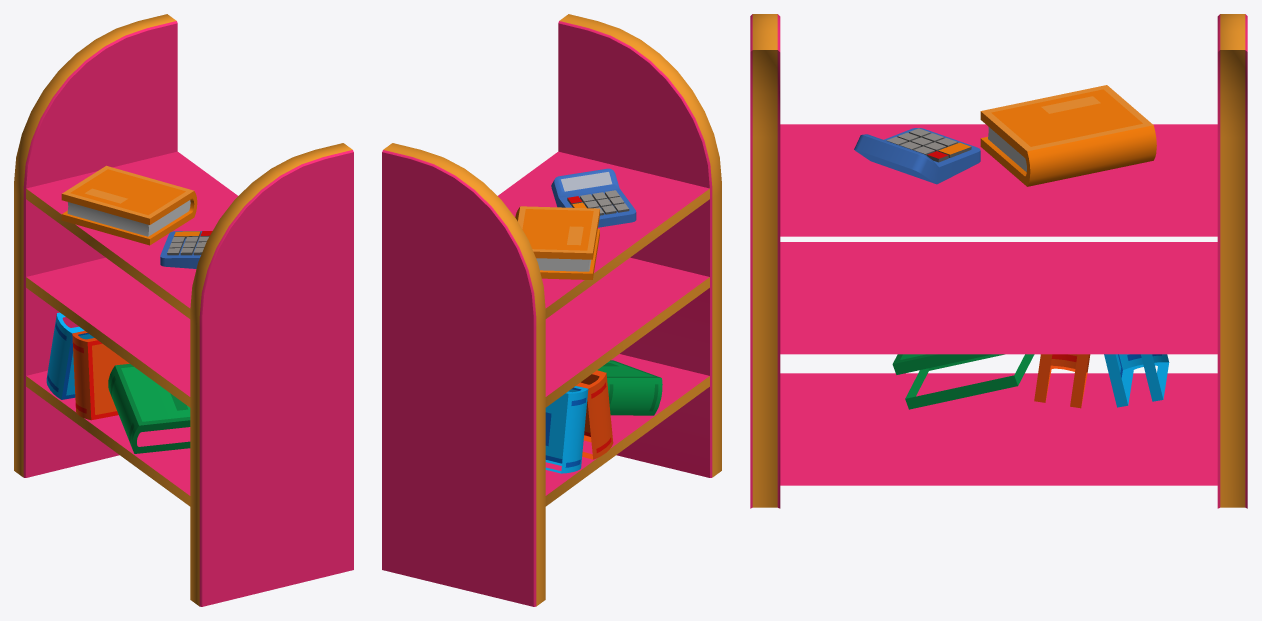
The model's file is Book Shelf LEVEL-3.fbx.
3 renders of one model, left to right at view 1: azimuth 30°, elevation 25°; view 2: azimuth 150°, elevation 25°; view 3: azimuth 270°, elevation 25°, orthographic. The views are drawn at different scales.
Visible parts, largest first — view 1: Book Shelf LEVEL-3; view 2: Book Shelf LEVEL-3; view 3: Book Shelf LEVEL-3.
Part boxes in pixels (bbox=[...]): Book Shelf LEVEL-3: bbox=[14, 14, 353, 606]; Book Shelf LEVEL-3: bbox=[382, 14, 721, 606]; Book Shelf LEVEL-3: bbox=[750, 14, 1247, 508].
Size of the model in its own units: 4.78 by 12.16 by 9.84.
